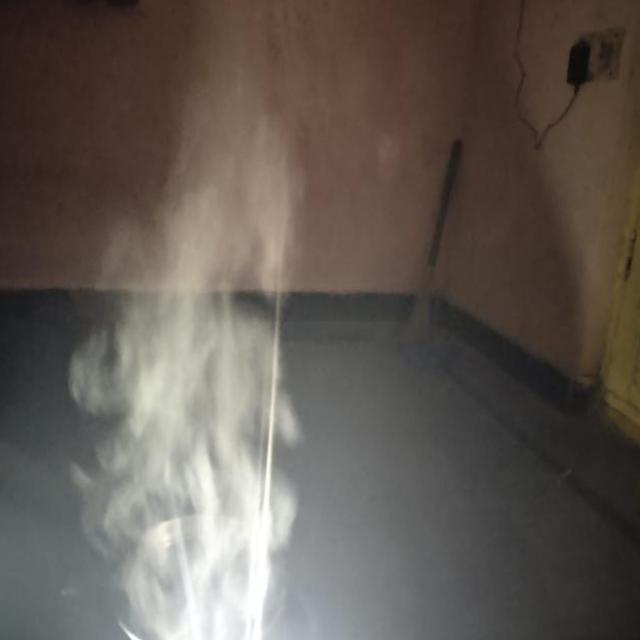fire: (63, 49, 310, 640)
